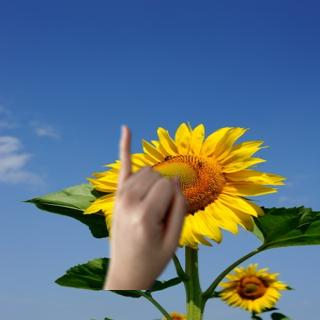FINE: (104, 123, 190, 275)
